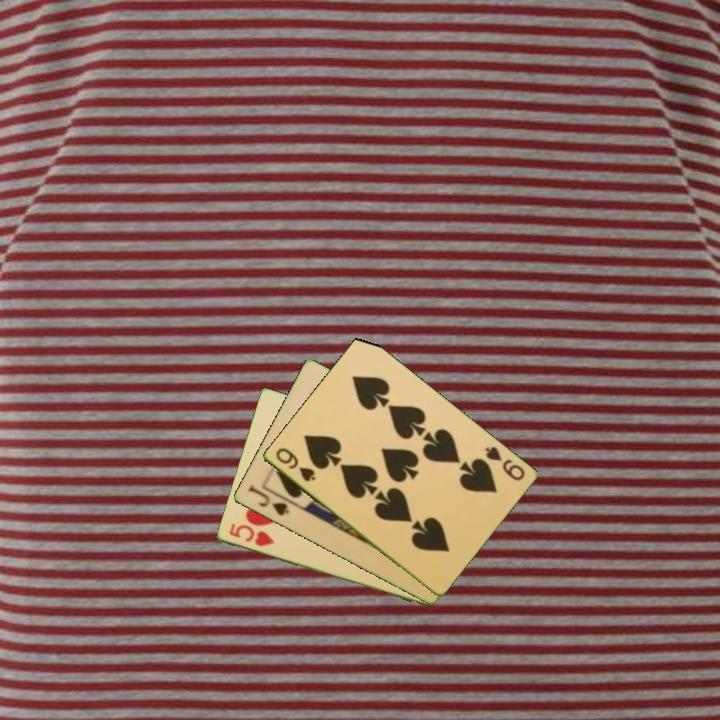5h: (225, 520, 277, 549)
9s: (481, 443, 528, 484), (272, 444, 318, 485)
Js: (244, 481, 292, 519)
